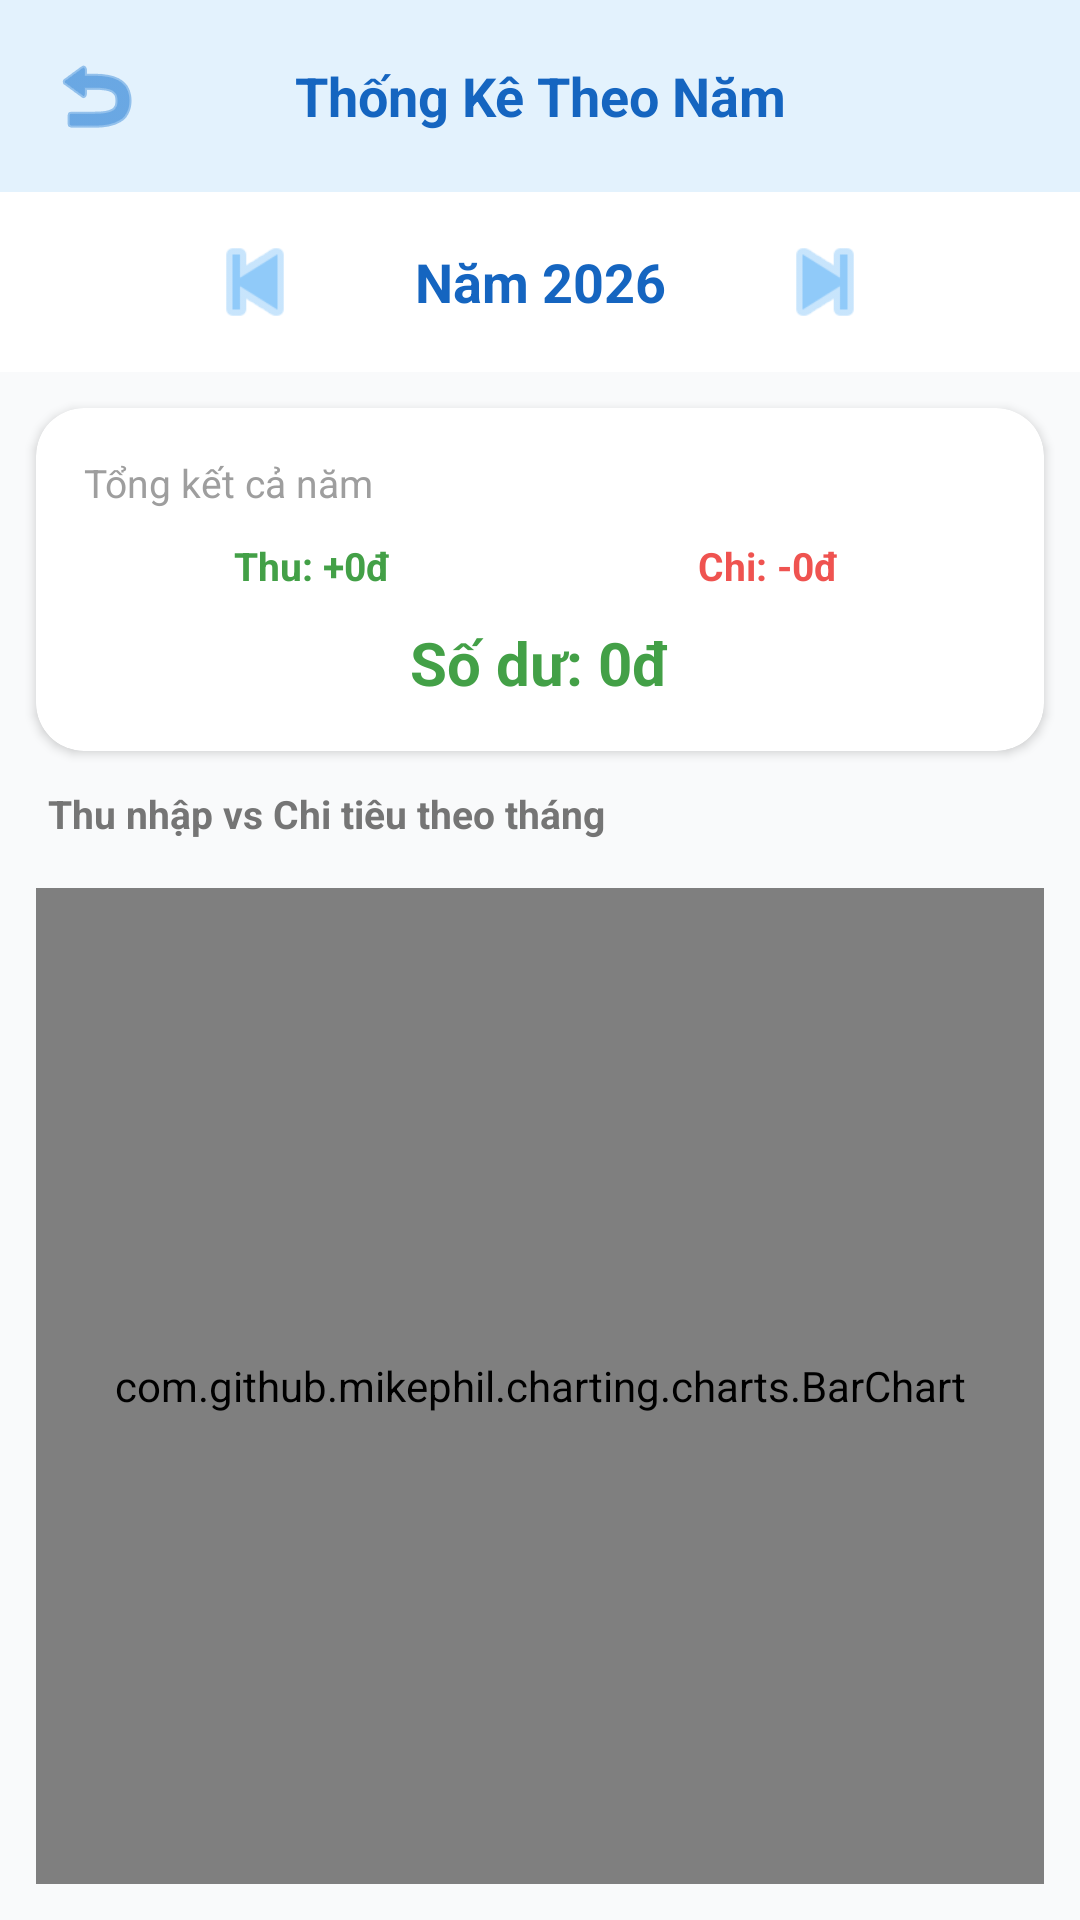

Locate icon controls on the screen. Image size 1080 x 1920, boxes as (x1, y1, x2, y2).
next: (796, 248, 854, 316)
previous: (226, 248, 284, 316)
revert: (63, 65, 132, 128)
